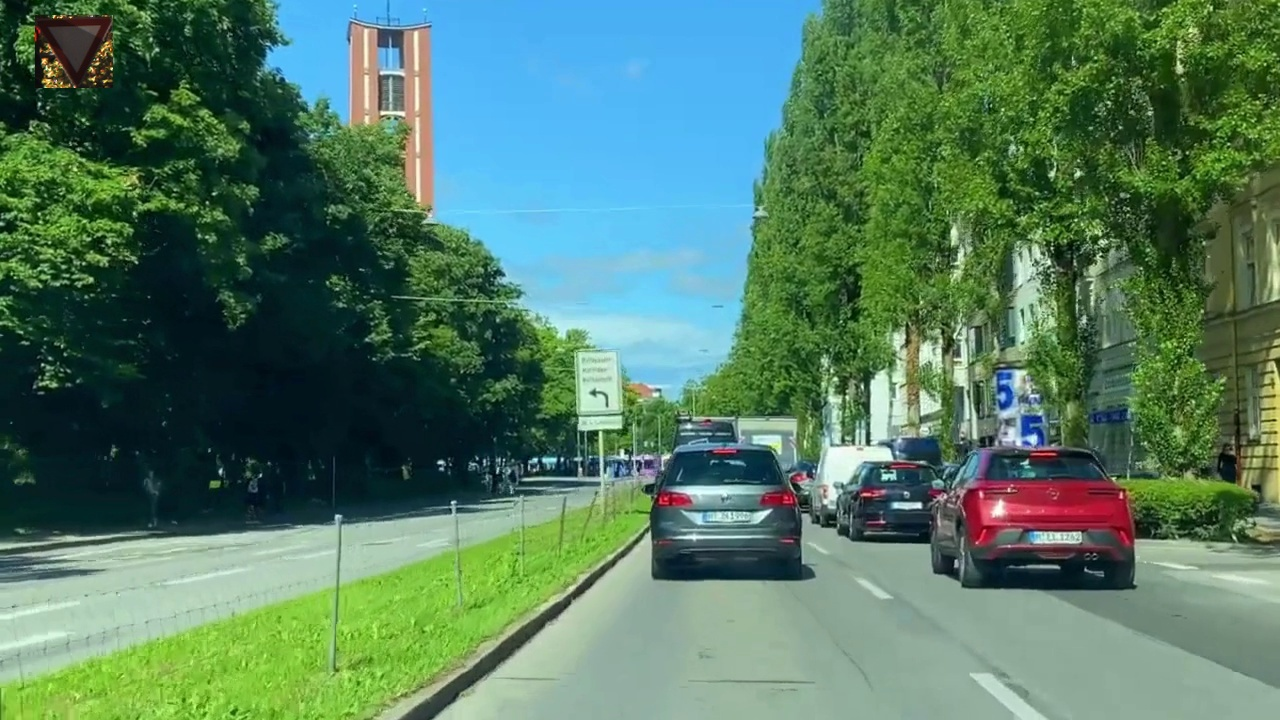Yield: (35, 15, 113, 88)
